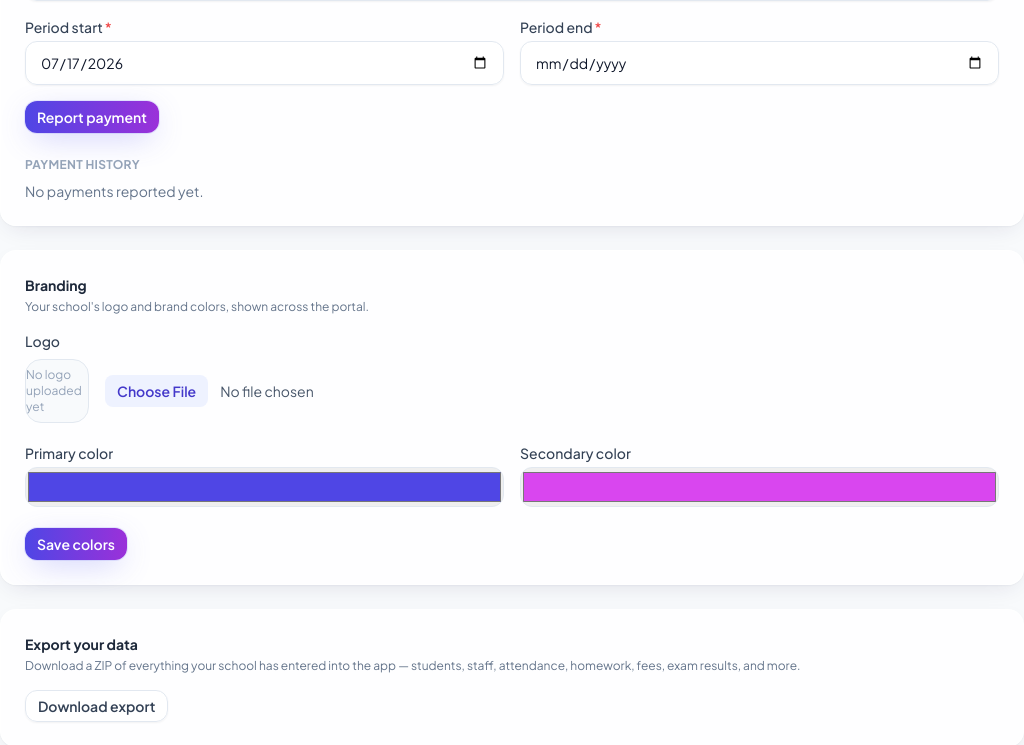
Test: AccountPage › shows an error message when the data export download fails
(page scrolled)
What coordinates should you click on to do the following:
click the button "Download export"
I would click on:
 (97, 706)
Its box is [25,690,168,722].
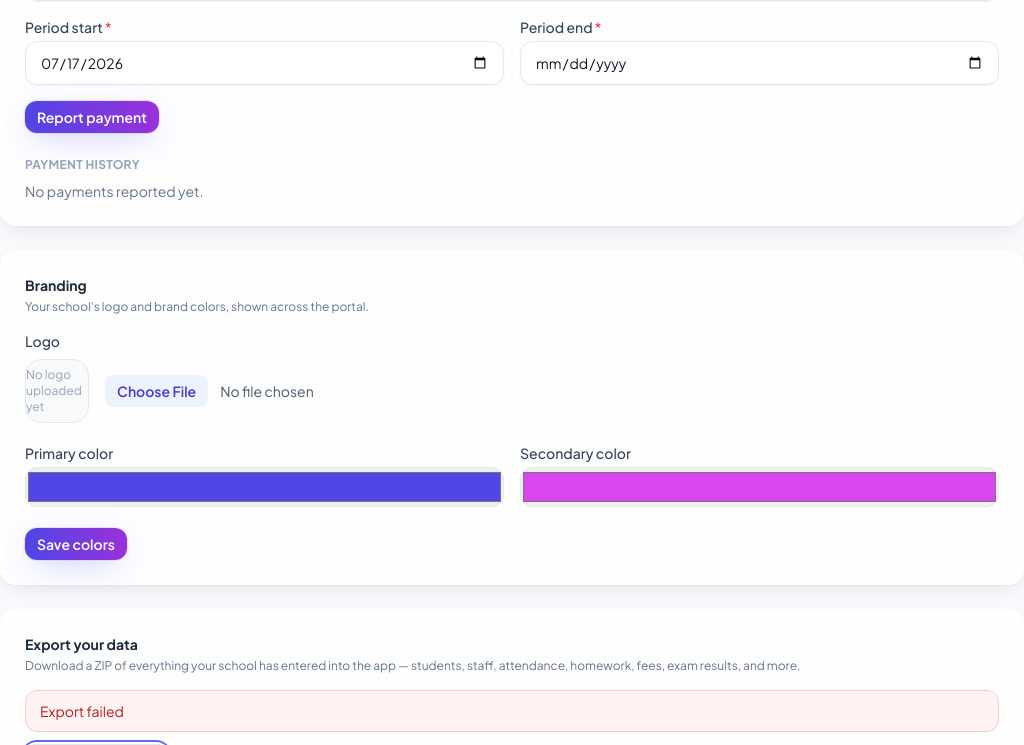
Check: the text "Export failed" is shown, box [25,690,999,732]
